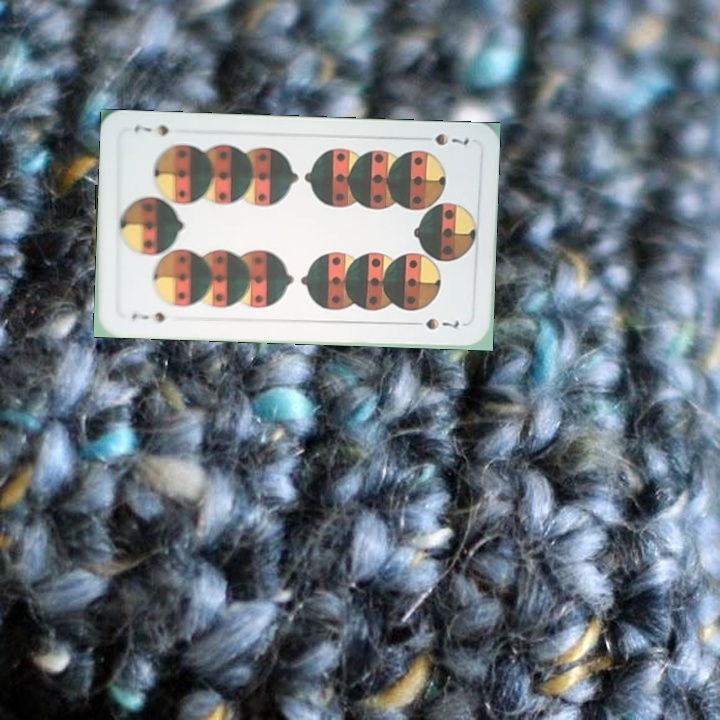S7: (431, 129, 472, 148), (127, 308, 167, 325)
